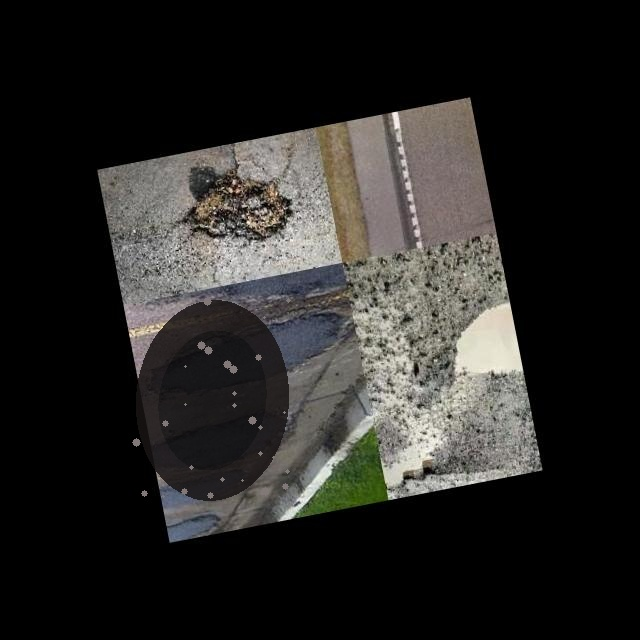pothole: (131, 295, 293, 505)
